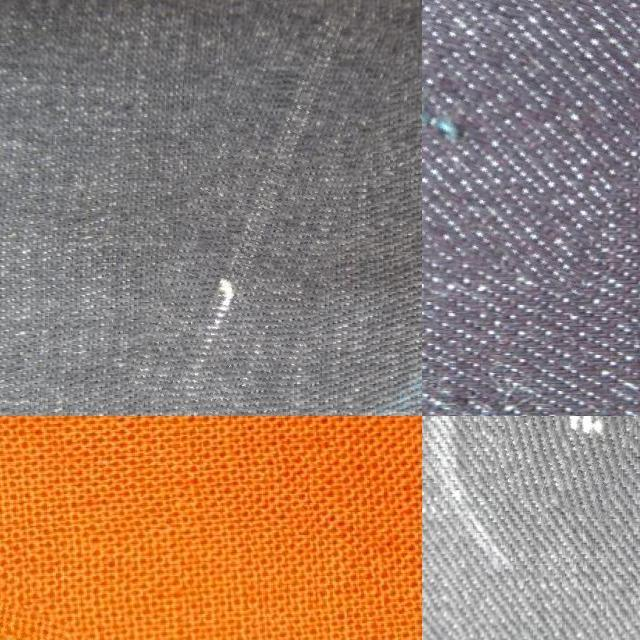other: (0, 597, 64, 640)
stains: (157, 0, 375, 416), (422, 0, 640, 270), (500, 416, 640, 513)
